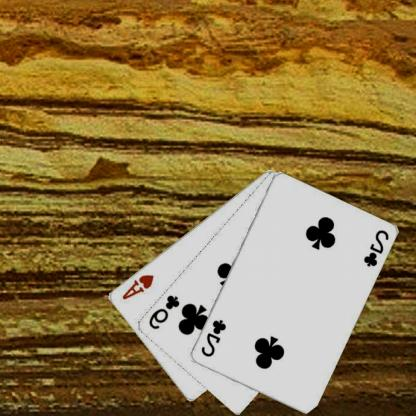2C: (362, 228, 392, 268), (200, 317, 229, 358)
6C: (147, 292, 182, 330)
AH: (120, 272, 156, 301)
